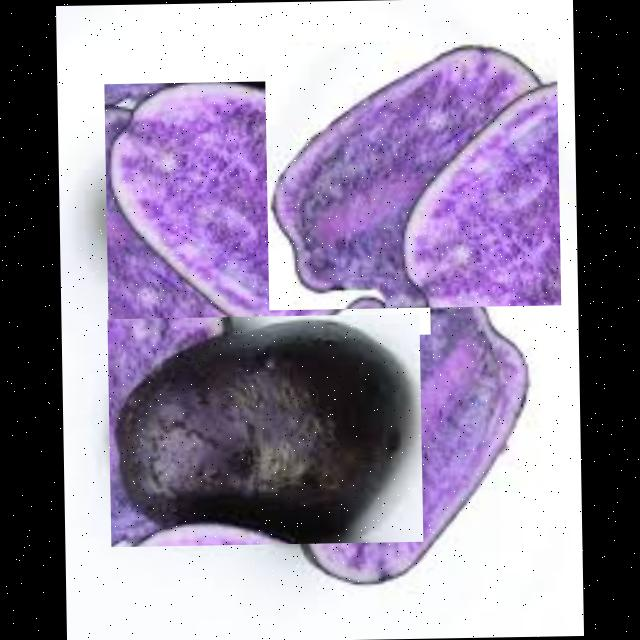Damaged potato: (107, 312, 423, 546)
Defected potato: (104, 77, 430, 339), (264, 40, 561, 309), (291, 291, 534, 580)
